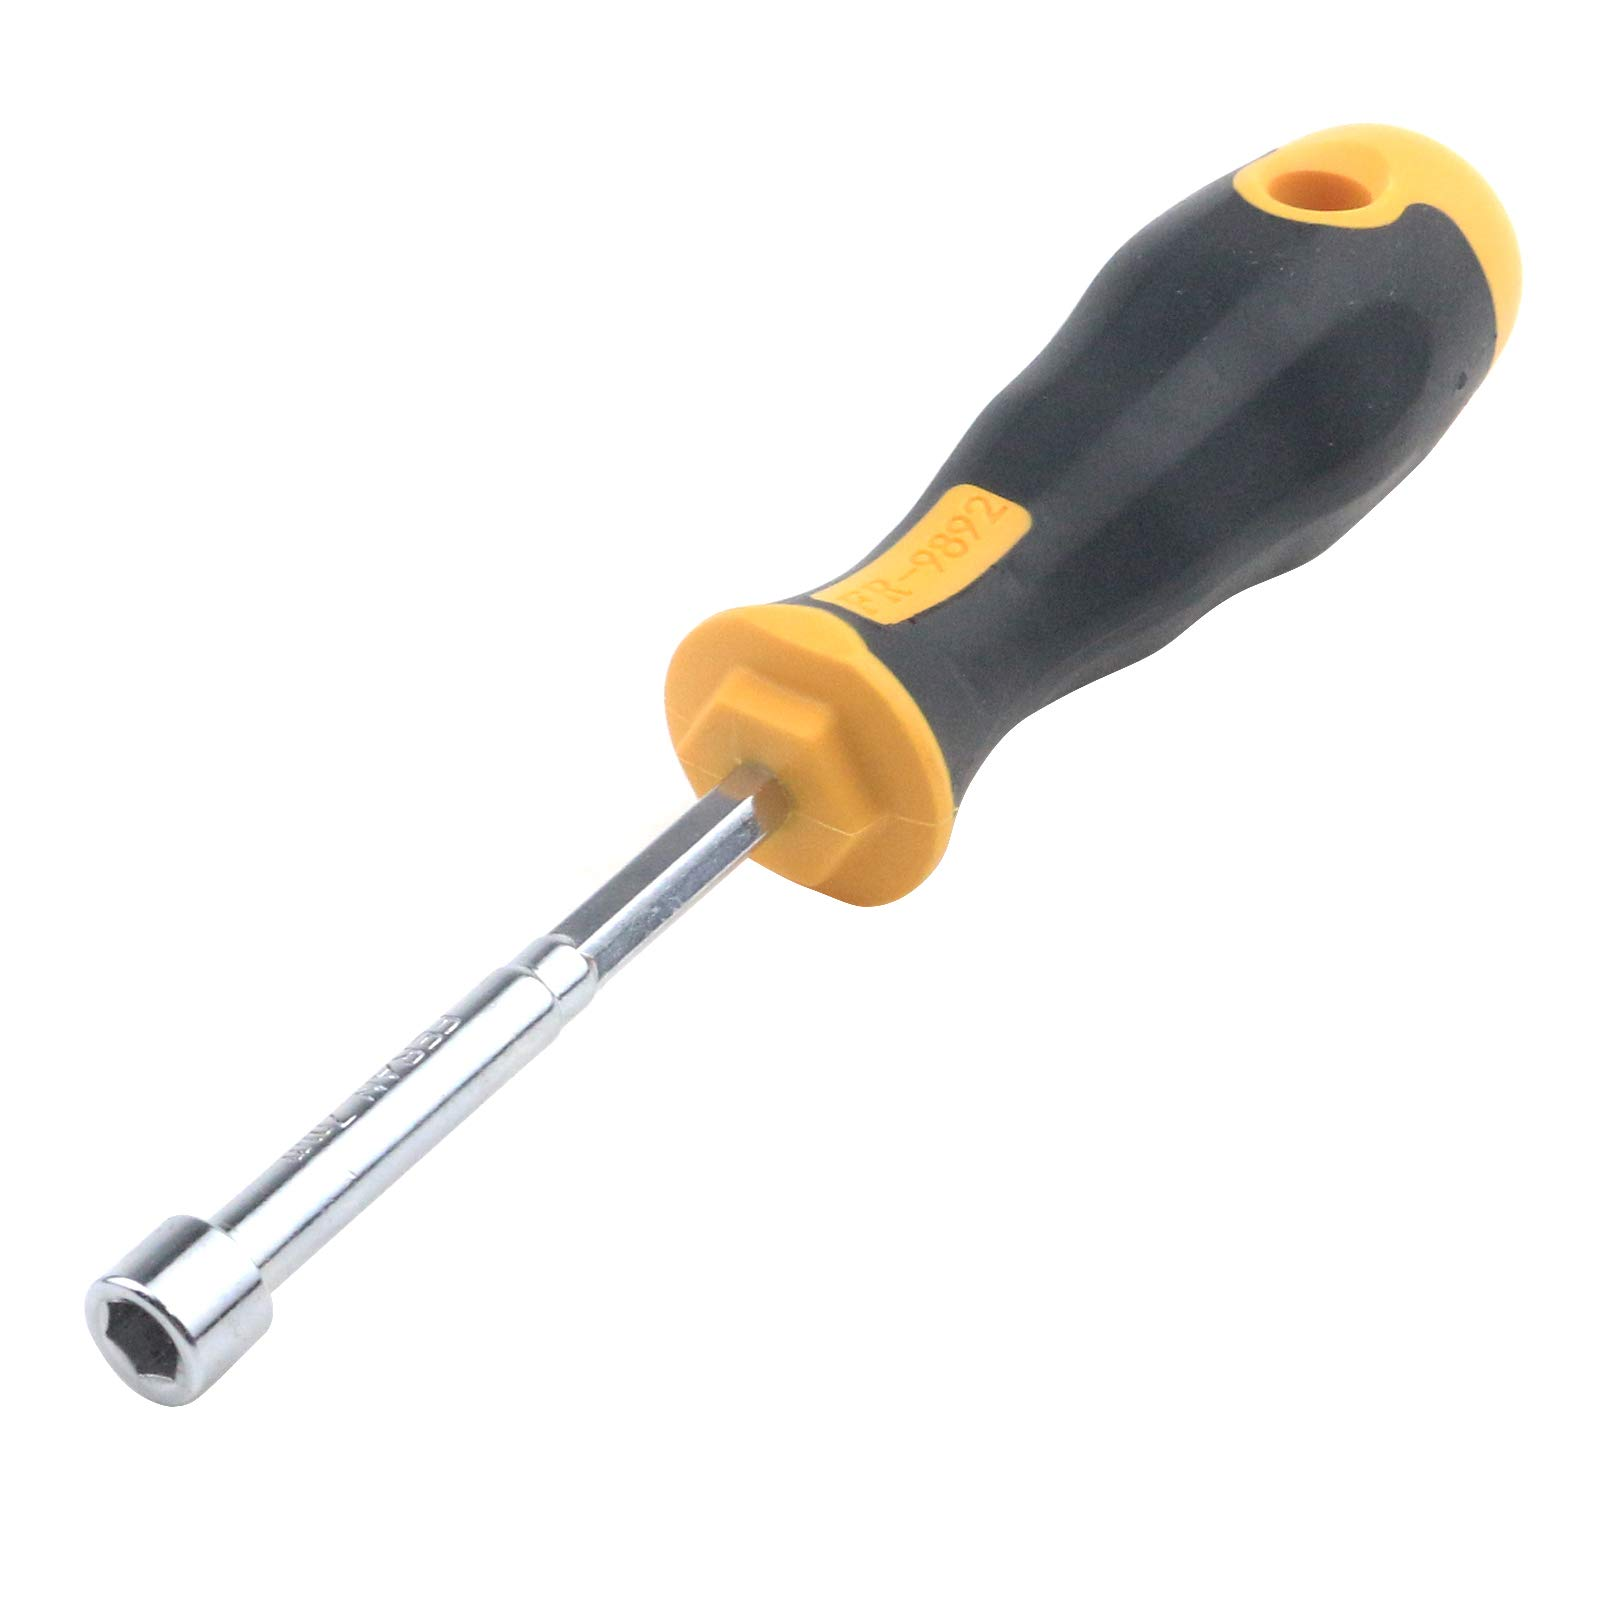screwdriver: (84, 122, 1528, 1412)
